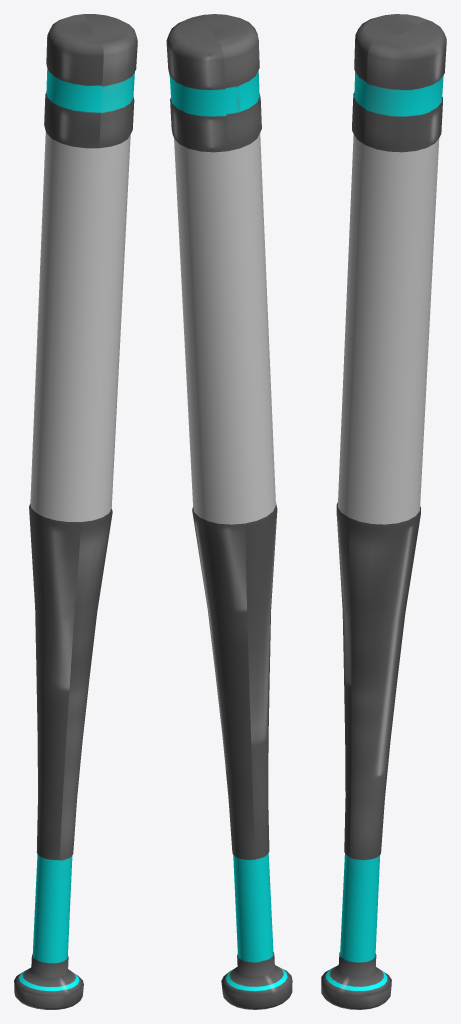
File: BAT.fbx
The picture shows the model from 3 angles, left to right: view 1: azimuth 30°, elevation 25°; view 2: azimuth 210°, elevation 25°; view 3: azimuth 330°, elevation 25°; orthographic projection.
Visible parts, largest first — view 1: Bat; view 2: Bat; view 3: Bat.
Part boxes in pixels (x1,y1,x2,y2): Bat: (14, 14, 137, 1009); Bat: (166, 14, 292, 1009); Bat: (321, 14, 446, 1009).
Bounding box in the file's own units: 9.97 × 81.02 × 6.94.
Materials: 2 (1 with a texture image).
